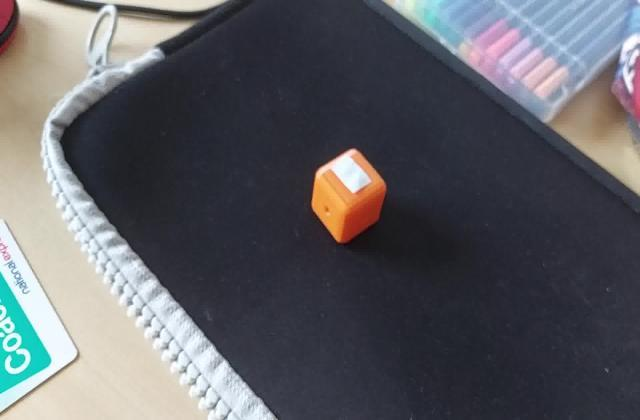sticker: (311, 146, 390, 246)
white: (334, 164, 374, 195)
